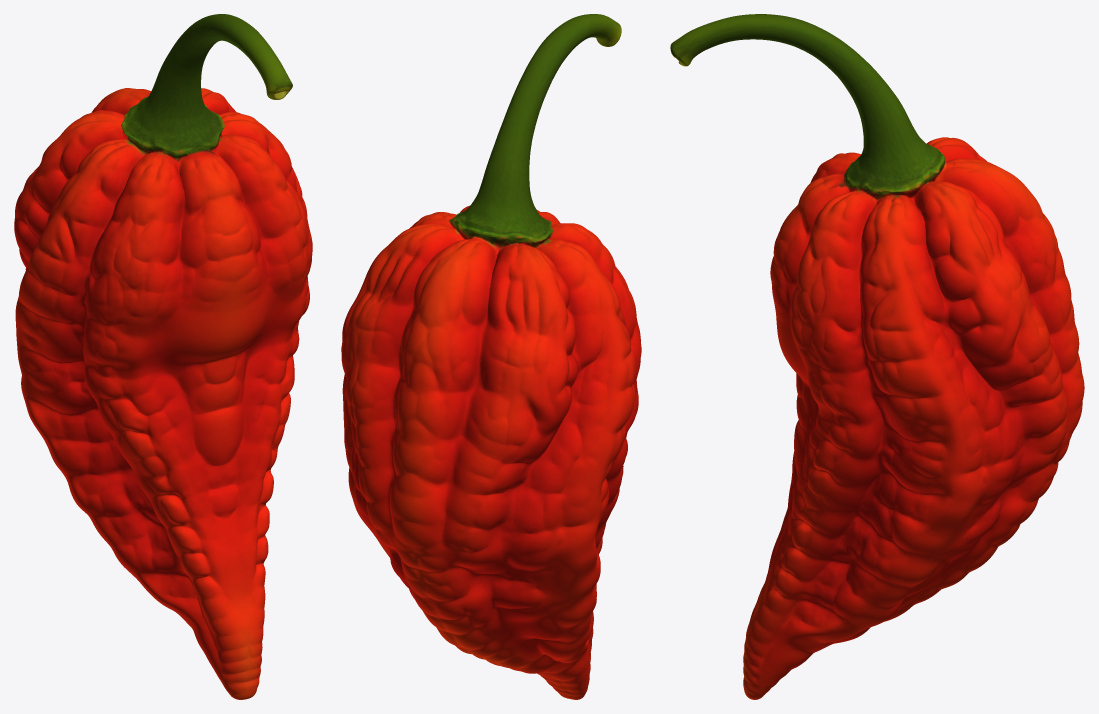
Rendered from nagaMircha.glb.
3 views of the same model, side by side, from view 1: azimuth 30°, elevation 25°; view 2: azimuth 150°, elevation 25°; view 3: azimuth 270°, elevation 25° (orthographic).
Parts seen in each view (by area): view 1: tripo_node_200b4362-cb61-4dc8-b094-5c27b233e63e; view 2: tripo_node_200b4362-cb61-4dc8-b094-5c27b233e63e; view 3: tripo_node_200b4362-cb61-4dc8-b094-5c27b233e63e.
Part boxes in pixels (<box>): tripo_node_200b4362-cb61-4dc8-b094-5c27b233e63e: <box>14,14,312,699</box>; tripo_node_200b4362-cb61-4dc8-b094-5c27b233e63e: <box>341,14,641,699</box>; tripo_node_200b4362-cb61-4dc8-b094-5c27b233e63e: <box>670,14,1084,699</box>.
Size of the model in its own units: 0.425 by 1 by 0.5508.
Materials: 1 (1 with a texture image).
